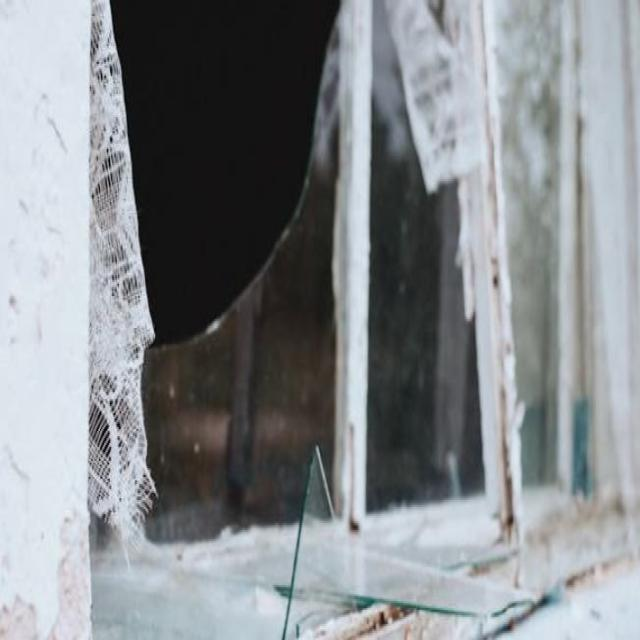electronic: (275, 434, 557, 640)
